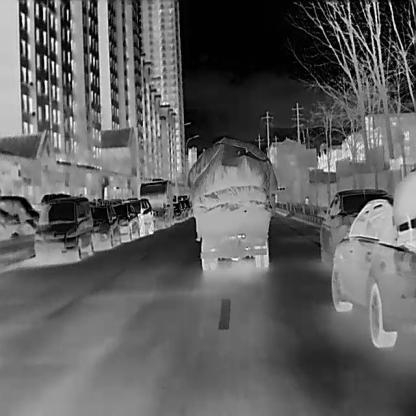car: (331, 167, 415, 347), (186, 136, 276, 269), (316, 188, 392, 262), (33, 194, 94, 263), (139, 177, 174, 228), (0, 194, 39, 233), (90, 203, 121, 250), (112, 201, 140, 241), (129, 197, 153, 234), (172, 200, 184, 221)
